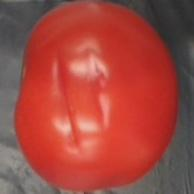unripe: (12, 0, 181, 194)
